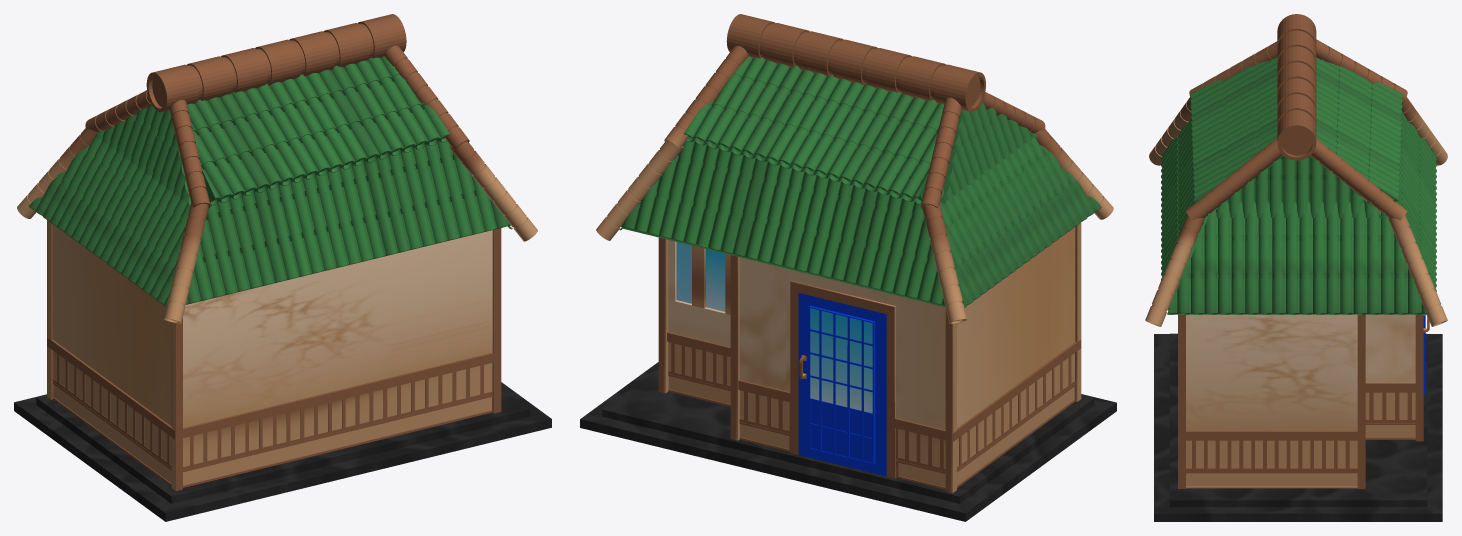
Rendered from house2.fbx.
The picture shows the model from 3 angles, left to right: view 1: azimuth 30°, elevation 25°; view 2: azimuth 150°, elevation 25°; view 3: azimuth 270°, elevation 25°; orthographic projection. The views are drawn at different scales.
Visible parts, largest first — view 1: Cube.002; view 2: Cube.002, Cube.004; view 3: Cube.002.
Part boxes in pixels (<box>): Cube.002: <box>14,14,551,521</box>; Cube.002: <box>580,14,1116,521</box>; Cube.004: <box>798,293,886,476</box>; Cube.002: <box>1145,14,1447,521</box>.
Size of the model in its own units: 355 by 331 by 253.
6 materials, 5 textured.
